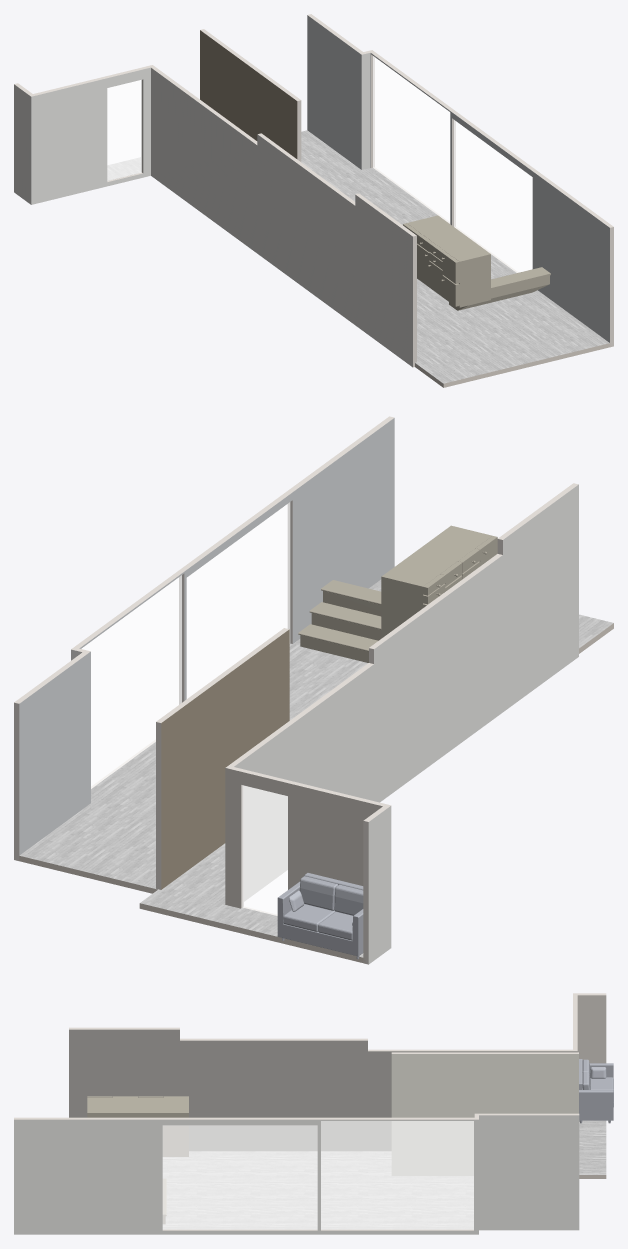
Rendered from OutsideTechHubModel.glb.
The picture shows the model from 3 angles, top to bottom: view 1: azimuth 30°, elevation 25°; view 2: azimuth 150°, elevation 25°; view 3: azimuth 270°, elevation 25°; orthographic projection. The views are drawn at different scales.
Parts seen in each view (by area): view 1: wall_0, floor_Living_Room, wall_5, wall_11, door_2, door_5, door_1, door_4, wall_15, wall_19, storage_cabinet_mid40, door_0 (+9 smaller); view 2: wall_0, floor_Living_Room, wall_15, wall_11, door_2, door_5, door_1, door_4, wall_19, wall_17, storage_cabinet_mid40, sofa_rect0 (+11 smaller); view 3: wall_7, floor_Living_Room, wall_2, door_2, door_5, door_1, door_4, wall_4, wall_6, storage_cabinet_mid40, sofa_rect0, wall_12 (+3 smaller).
Part boxes in pixels (bbox=[...]): wall_0: bbox=[151, 68, 412, 367]; floor_Living_Room: bbox=[107, 130, 609, 383]; wall_5: bbox=[31, 67, 150, 204]; wall_11: bbox=[370, 53, 609, 342]; door_2: bbox=[373, 56, 449, 223]; door_5: bbox=[373, 56, 449, 223]; door_1: bbox=[454, 120, 532, 272]; door_4: bbox=[454, 120, 532, 272]; wall_15: bbox=[200, 30, 297, 158]; wall_19: bbox=[307, 15, 361, 169]; storage_cabinet_mid40: bbox=[403, 215, 490, 307]; door_0: bbox=[107, 80, 141, 180]; wall_0: bbox=[234, 484, 578, 901]; floor_Living_Room: bbox=[19, 579, 613, 957]; wall_15: bbox=[161, 629, 289, 889]; wall_11: bbox=[79, 418, 394, 700]; door_2: bbox=[82, 575, 181, 788]; door_5: bbox=[82, 575, 181, 788]; door_1: bbox=[187, 502, 289, 698]; door_4: bbox=[187, 503, 289, 698]; wall_19: bbox=[19, 651, 90, 855]; wall_17: bbox=[225, 768, 382, 908]; storage_cabinet_mid40: bbox=[381, 525, 497, 637]; sofa_rect0: bbox=[277, 873, 363, 959]; wall_7: bbox=[69, 1029, 577, 1150]; floor_Living_Room: bbox=[163, 1120, 606, 1229]; wall_2: bbox=[14, 1119, 478, 1234]; door_2: bbox=[321, 1121, 473, 1229]; door_5: bbox=[321, 1121, 473, 1229]; door_1: bbox=[163, 1125, 317, 1229]; door_4: bbox=[163, 1125, 317, 1229]; wall_4: bbox=[391, 1054, 578, 1175]; wall_6: bbox=[479, 1115, 579, 1230]; storage_cabinet_mid40: bbox=[87, 1096, 188, 1156]; sofa_rect0: bbox=[579, 1059, 613, 1123]; wall_12: bbox=[14, 1117, 478, 1230].
Bounding box in the file's own units: 7.24 × 3.1 × 13.39.
Materials: 21 (1 with a texture image).
